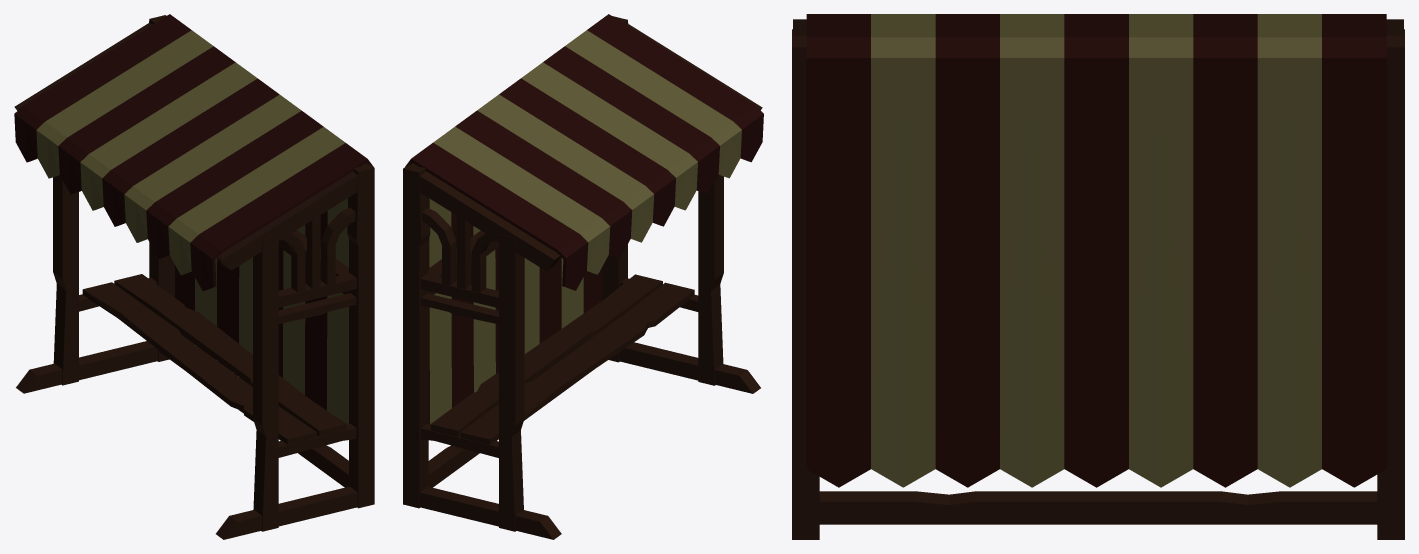
File: MarketStand_2.obj
3 renders of one model, left to right at view 1: azimuth 30°, elevation 25°; view 2: azimuth 150°, elevation 25°; view 3: azimuth 270°, elevation 25°, orthographic. The views are drawn at different scales.
Parts seen in each view (by area): view 1: MarketStand_2; view 2: MarketStand_2; view 3: MarketStand_2.
Boxes of the visible parts, box(x1,y1,x2,y2) form: MarketStand_2: box(14, 14, 374, 539); MarketStand_2: box(403, 14, 763, 539); MarketStand_2: box(792, 14, 1404, 539).
Size of the model in its own units: 0.5172 by 1.04 by 1.15.
